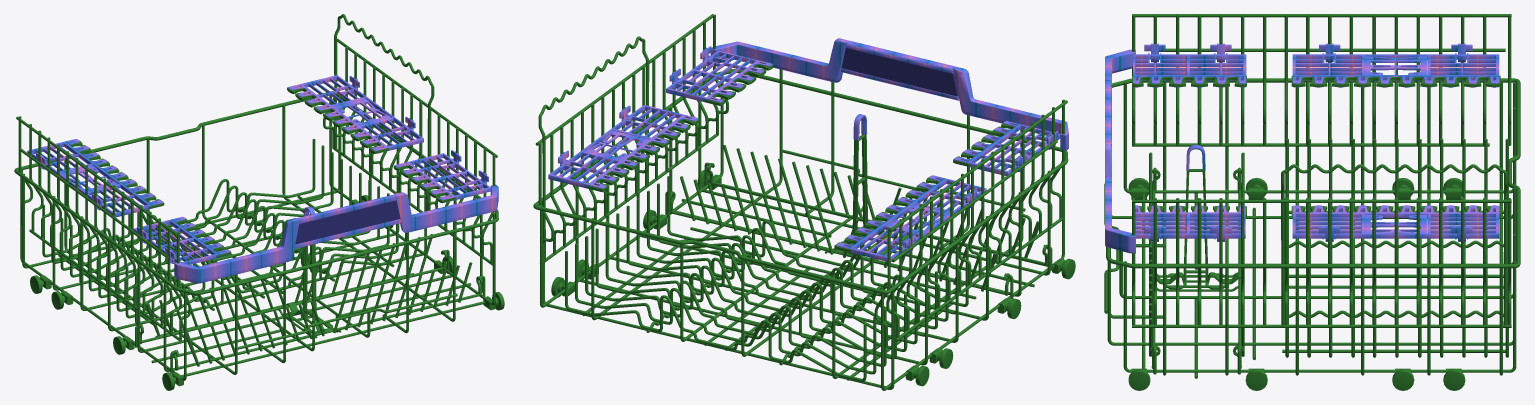
Rendered from SM_Dishwasher_Tray_01.fbx.
3 views of the same model, side by side, from view 1: azimuth 30°, elevation 25°; view 2: azimuth 150°, elevation 25°; view 3: azimuth 270°, elevation 25° (orthographic). The views are drawn at different scales.
Visible parts, largest first — view 1: SM_Dishwasher_Tray_01; view 2: SM_Dishwasher_Tray_01; view 3: SM_Dishwasher_Tray_01.
Boxes of the visible parts, x1,y1,x2,y2 form: SM_Dishwasher_Tray_01: (14, 14, 504, 390); SM_Dishwasher_Tray_01: (533, 14, 1075, 390); SM_Dishwasher_Tray_01: (1104, 14, 1520, 390).
Bounding box in the file's own units: 54.29 × 29.13 × 49.31.
Materials: 4 (2 with a texture image).
